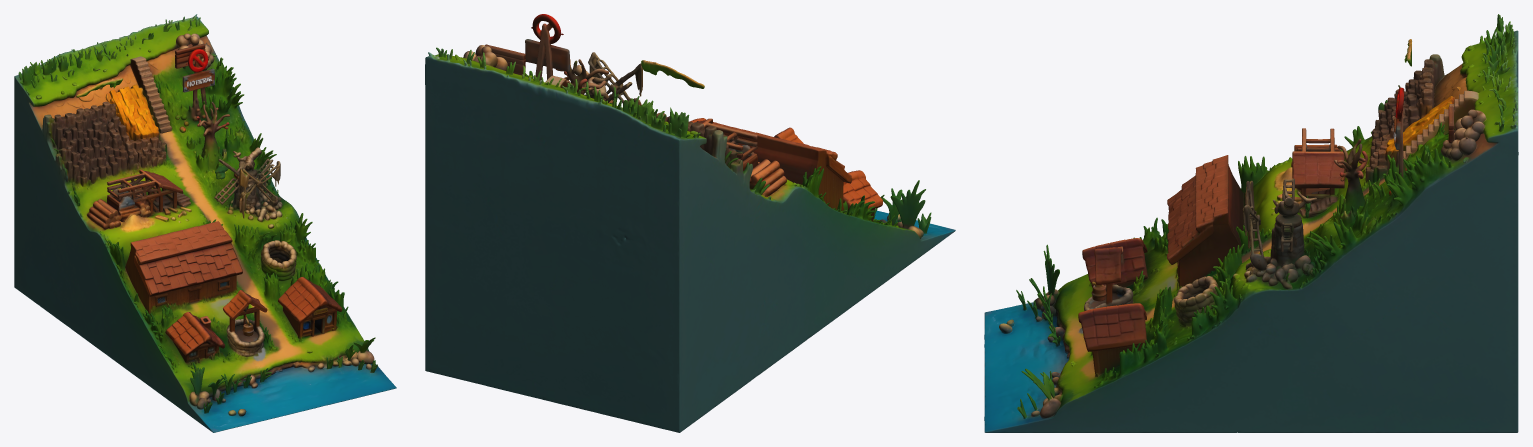
File: granja.glb
3 views of the same model, side by side, from view 1: azimuth 30°, elevation 25°; view 2: azimuth 150°, elevation 25°; view 3: azimuth 270°, elevation 25° (orthographic). The views are drawn at different scales.
Visible parts, largest first — view 1: tripo_node_6d1db116-77db-408c-92cd-f46f5262f18a; view 2: tripo_node_6d1db116-77db-408c-92cd-f46f5262f18a; view 3: tripo_node_6d1db116-77db-408c-92cd-f46f5262f18a.
Boxes of the visible parts, x1,y1,x2,y2 form: tripo_node_6d1db116-77db-408c-92cd-f46f5262f18a: (14,14,396,432); tripo_node_6d1db116-77db-408c-92cd-f46f5262f18a: (425,14,955,432); tripo_node_6d1db116-77db-408c-92cd-f46f5262f18a: (984,14,1518,432).
Size of the model in its own units: 0.5371 by 0.6522 by 1.
1 material, 1 textured.
